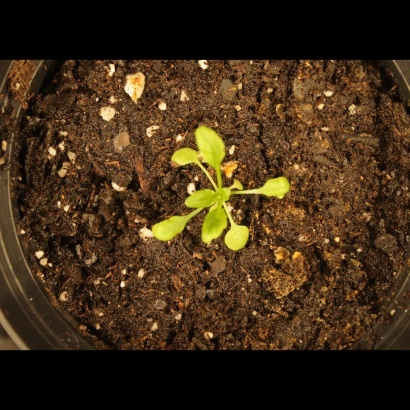leaf: (191, 126, 233, 169), (147, 215, 192, 246), (199, 205, 229, 248), (256, 172, 299, 201), (222, 222, 255, 252), (181, 186, 220, 211), (170, 145, 202, 169), (230, 175, 253, 198)
